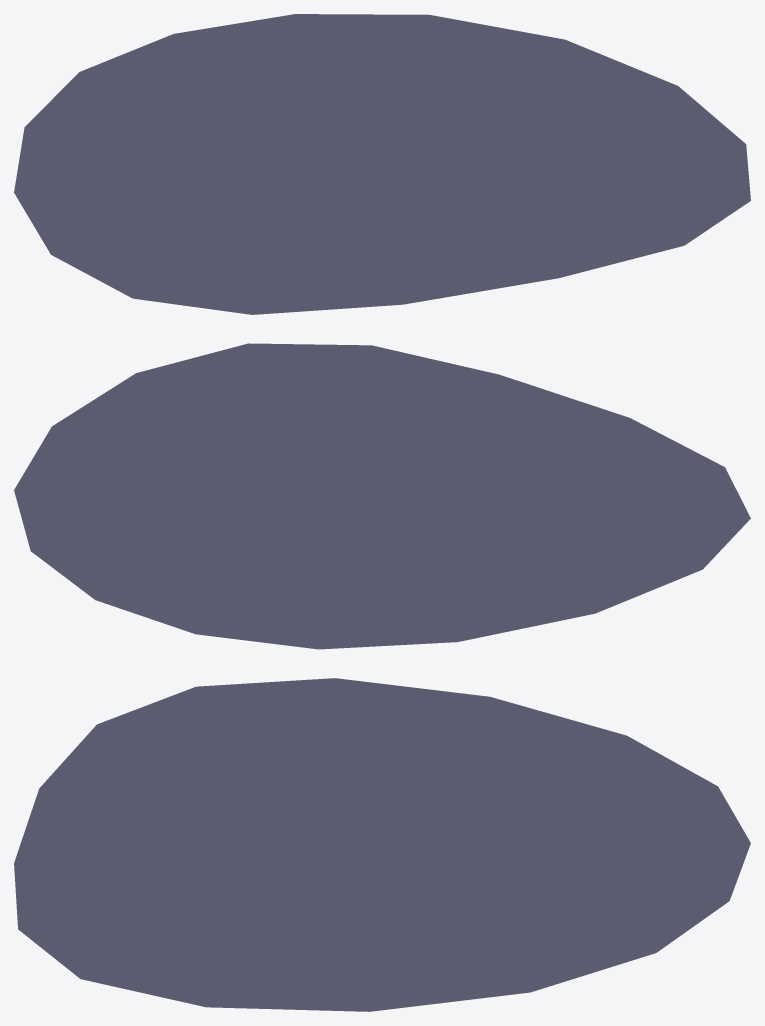
The model's file is Pond_1.gltf.
3 views of the same model, one above another, from view 1: azimuth 30°, elevation 25°; view 2: azimuth 150°, elevation 25°; view 3: azimuth 270°, elevation 25° (orthographic). The views are drawn at different scales.
Parts seen in each view (by area): view 1: Pond_1; view 2: Pond_1; view 3: Pond_1.
Boxes of the visible parts, x1,y1,x2,y2 form: Pond_1: (14, 14, 750, 314); Pond_1: (14, 343, 750, 649); Pond_1: (14, 678, 750, 1011).
Size of the model in its own units: 180 by 0 by 168.
Materials: 1 (1 with a texture image).
